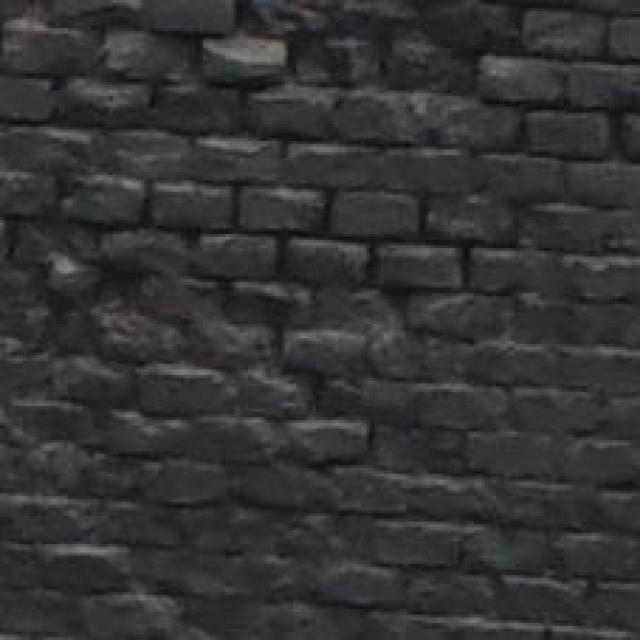Crack: (0, 93, 385, 640)
